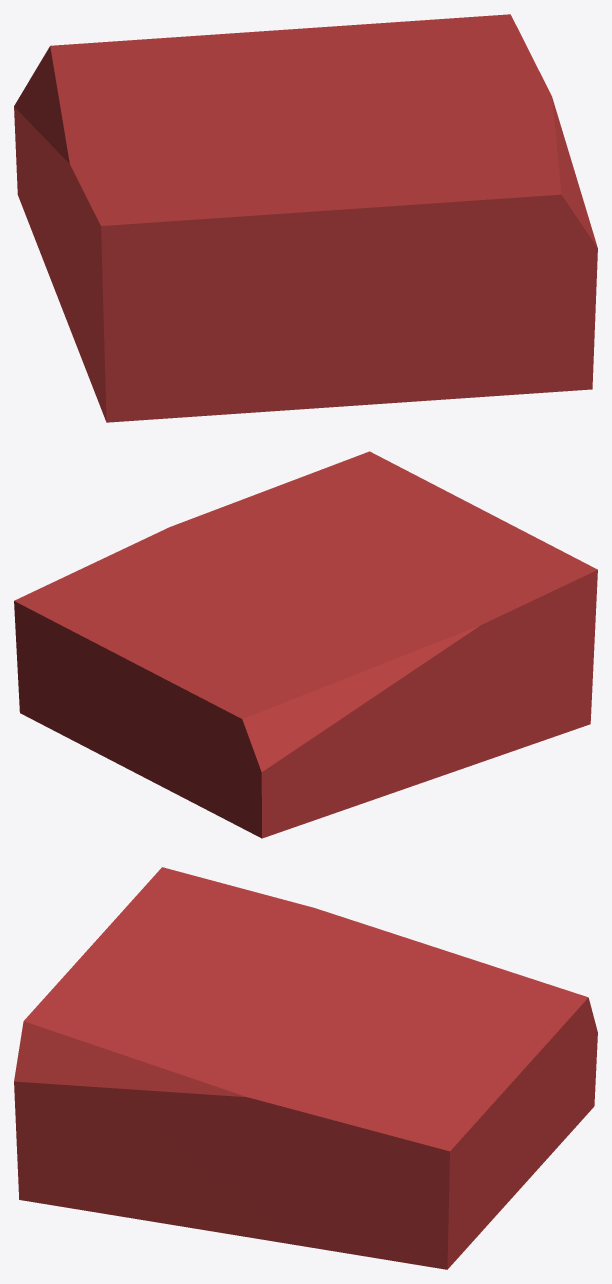
File: ea_arch_wall03_rubble_01b_pre__21__1_lev1.glb
3 views of the same model, one above another, from view 1: azimuth 30°, elevation 25°; view 2: azimuth 150°, elevation 25°; view 3: azimuth 270°, elevation 25° (orthographic). The views are drawn at different scales.
Visible parts, largest first — view 1: ea_arch_wall03_rubble_01b_pre__21__1_lev1; view 2: ea_arch_wall03_rubble_01b_pre__21__1_lev1; view 3: ea_arch_wall03_rubble_01b_pre__21__1_lev1.
Boxes of the visible parts, x1=… form: ea_arch_wall03_rubble_01b_pre__21__1_lev1: x1=14, y1=14, x2=597, y2=422; ea_arch_wall03_rubble_01b_pre__21__1_lev1: x1=14, y1=451, x2=597, y2=838; ea_arch_wall03_rubble_01b_pre__21__1_lev1: x1=14, y1=867, x2=597, y2=1269.
Bounding box in the file's own units: 0.1779 × 0.0587 × 0.185.
1 material, 1 textured.
